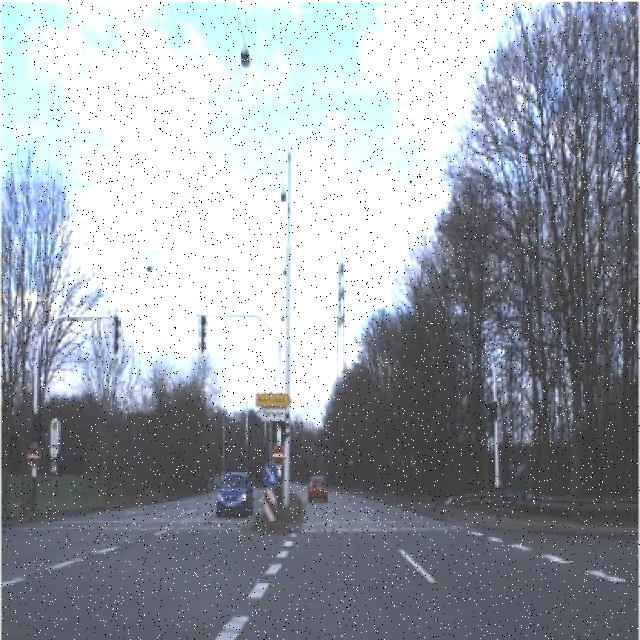Zakaz wjazdu: (24, 440, 41, 472), (270, 442, 286, 467)
